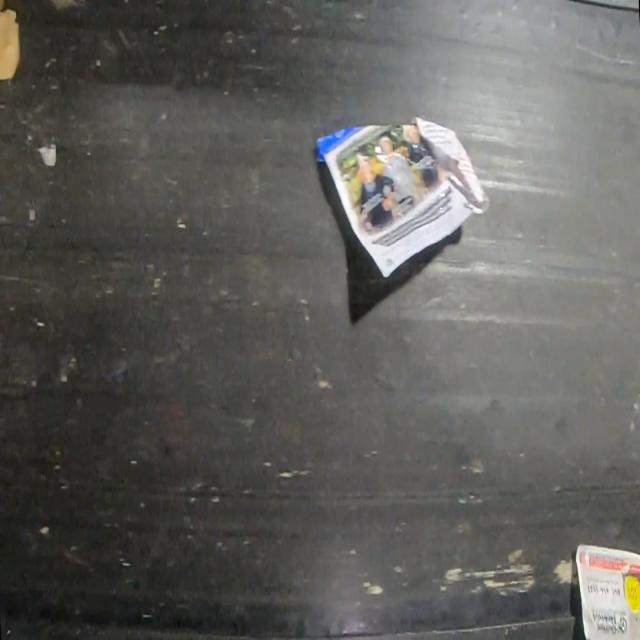cardboard: (0, 0, 20, 81)
